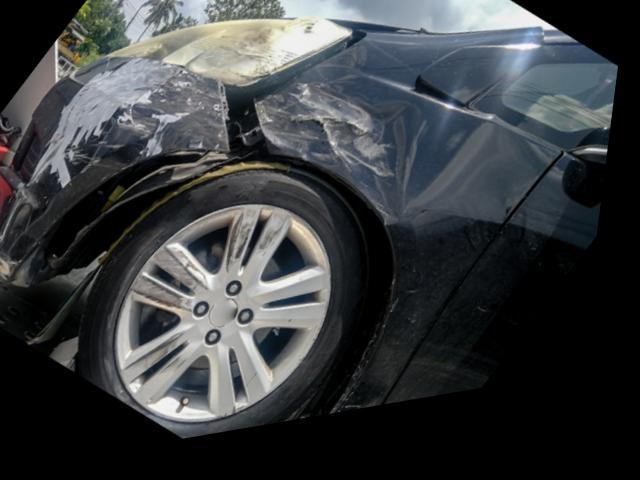scratch: (69, 78, 232, 185), (261, 91, 397, 200)
